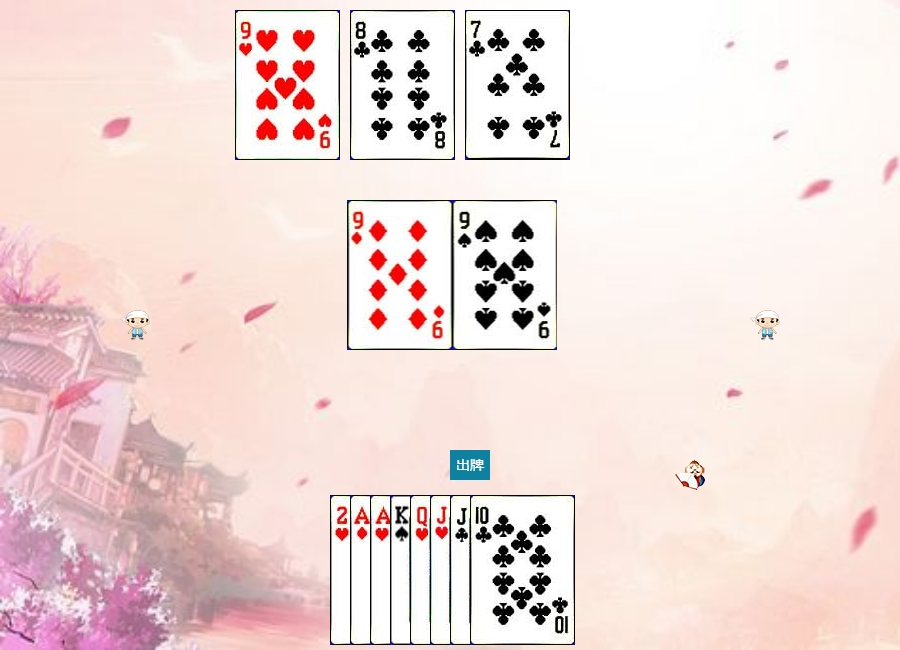10~2: (470, 495, 575, 645)
11~2: (450, 495, 555, 645)
11~3: (430, 495, 535, 645)
12~3: (410, 495, 515, 645)
13~4: (390, 495, 495, 645)
14~1: (350, 495, 455, 645)
14~3: (370, 495, 475, 645)
15~3: (330, 495, 435, 645)
7~2: (465, 10, 570, 160)
8~2: (350, 10, 455, 160)
9~1: (348, 200, 453, 350)
9~3: (235, 10, 340, 160)
9~4: (453, 200, 558, 350)
